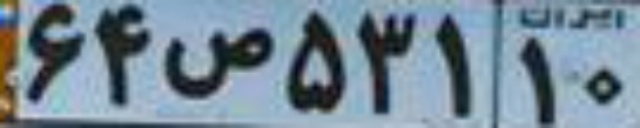0: (579, 64, 626, 104)
1: (430, 12, 471, 118), (514, 35, 556, 123)
3: (357, 10, 415, 115)
4: (90, 4, 149, 106)
5: (283, 10, 345, 111)
6: (27, 4, 83, 105)
saat: (164, 26, 274, 98)
